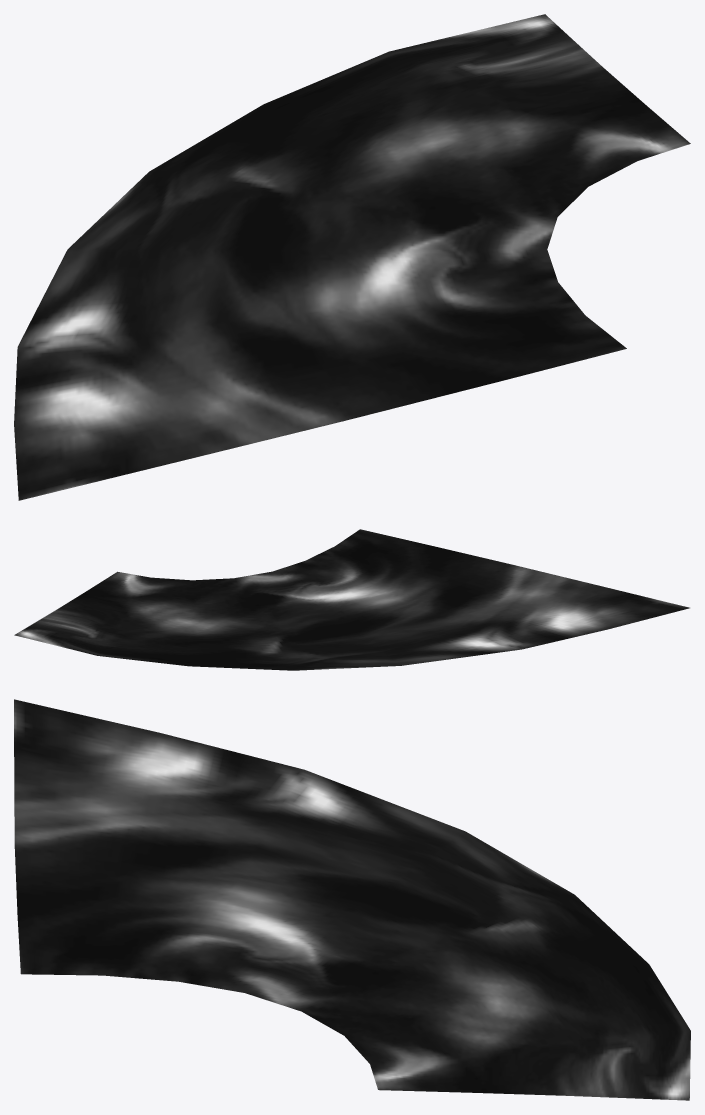
Rendered from cash_2014summer_wing_Plane.FBX.
3 views of the same model, one above another, from view 1: azimuth 30°, elevation 25°; view 2: azimuth 150°, elevation 25°; view 3: azimuth 270°, elevation 25° (orthographic). The views are drawn at different scales.
Visible parts, largest first — view 1: cash_2014summer_wing_Plane; view 2: cash_2014summer_wing_Plane; view 3: cash_2014summer_wing_Plane.
Part boxes in pixels (left/top/right/bottom): cash_2014summer_wing_Plane: left=14, top=14, right=690, bottom=500; cash_2014summer_wing_Plane: left=14, top=529, right=689, bottom=670; cash_2014summer_wing_Plane: left=14, top=699, right=690, bottom=1100.
Bounding box in the file's own units: 56.29 × 1.34e-06 × 40.13.
